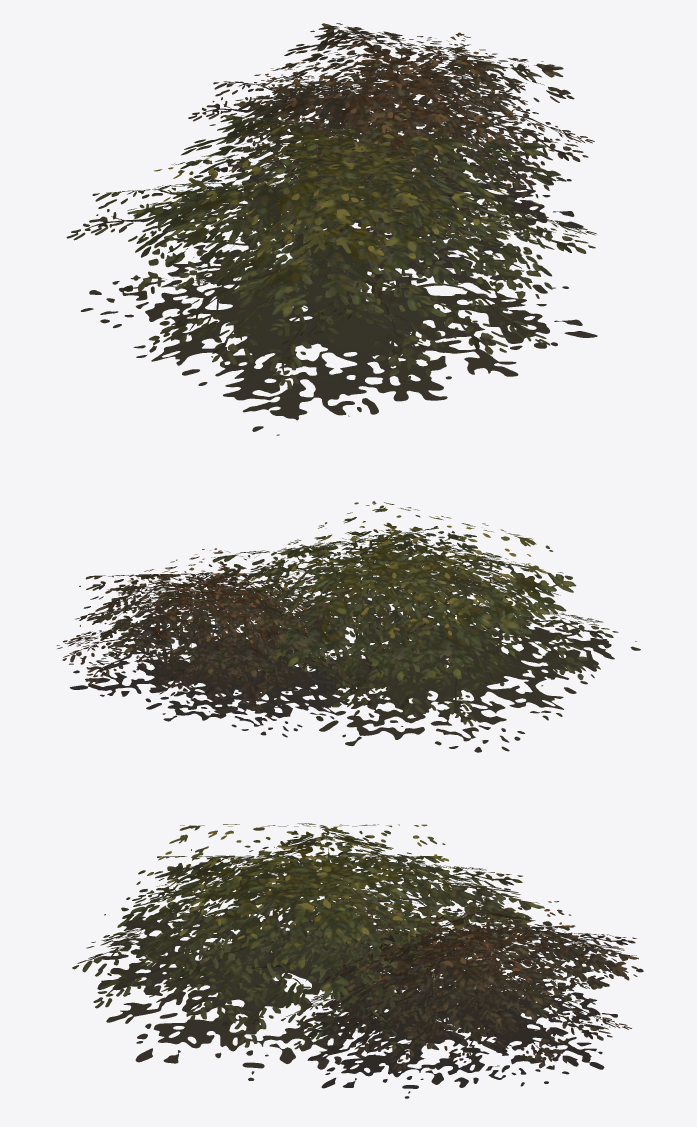
Rendered from plants_bushes13.fbx.
3 renders of one model, top to bottom at view 1: azimuth 30°, elevation 25°; view 2: azimuth 150°, elevation 25°; view 3: azimuth 270°, elevation 25°, orthographic. The views are drawn at different scales.
Parts seen in each view (by area): view 1: plants_bushes13-0; view 2: plants_bushes13-0; view 3: plants_bushes13-0.
Boxes of the visible parts, x1,y1,x2,y2 form: plants_bushes13-0: (66, 23, 597, 435); plants_bushes13-0: (56, 501, 640, 752); plants_bushes13-0: (72, 823, 643, 1098).
Bounding box in the file's own units: 5.29 × 1.38 × 5.68.
